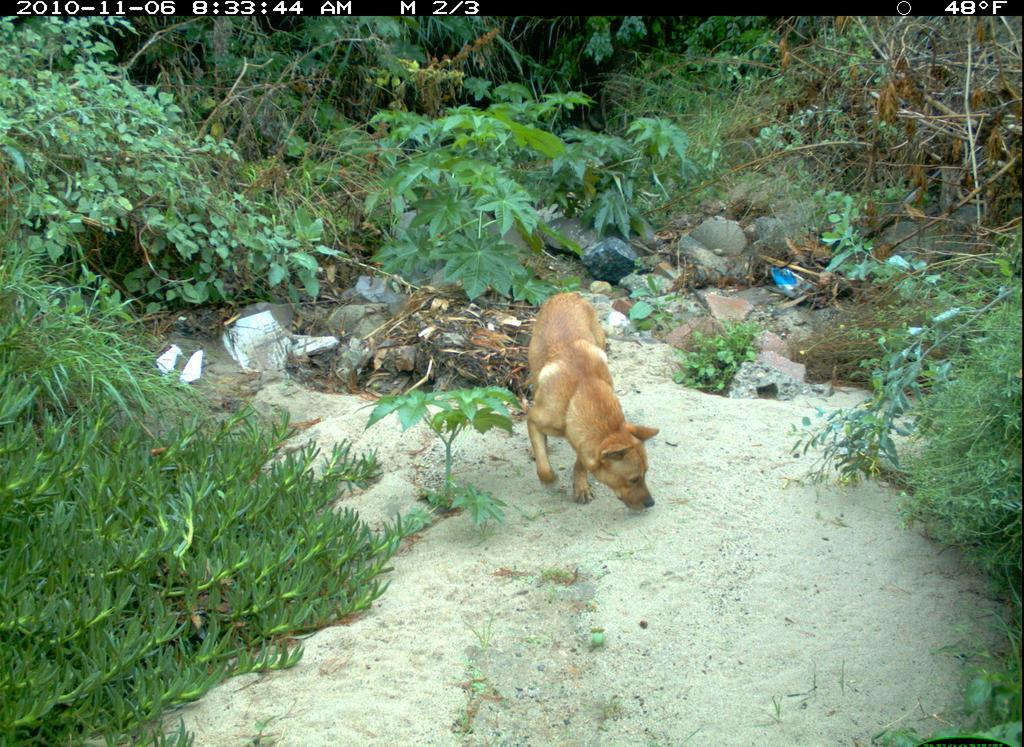dog: (504, 283, 666, 525)
